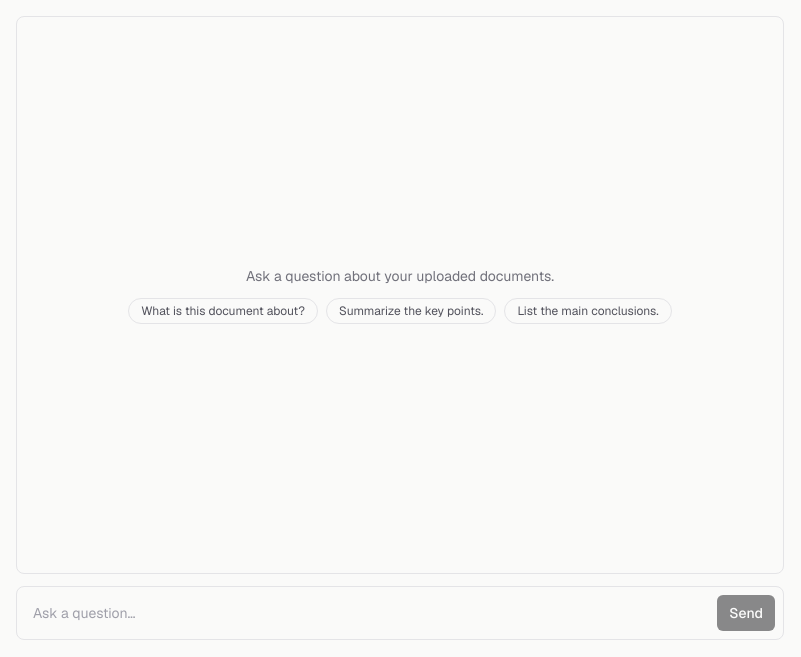
it: ChatClient › streams tokens into the assistant message and finishes on done
The width and height of the screenshot is (801, 657).
Type "qué es sourcely" into the text box with placeholder "Ask a question…" at (367, 613), box x1=25 y1=595 x2=709 y2=631
Then press Enter
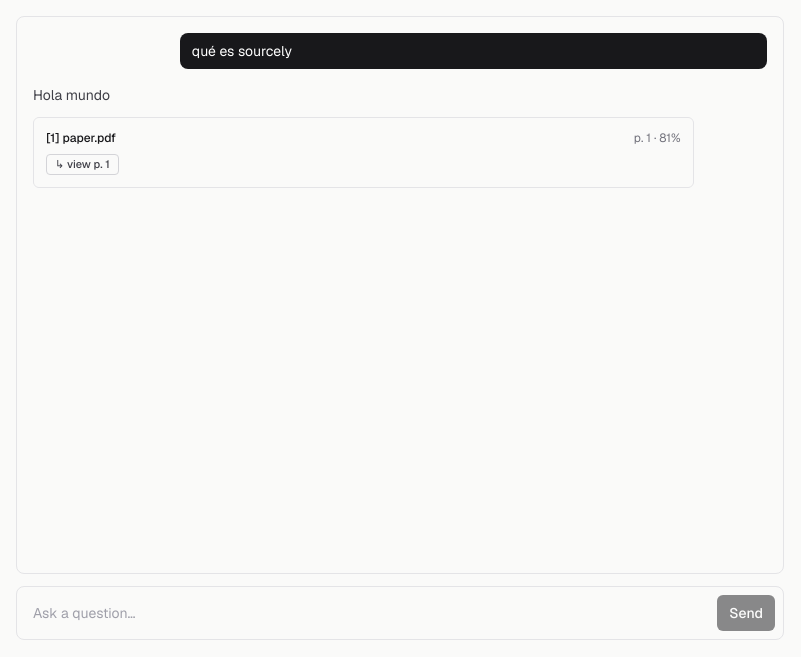
Check: the text "qué es sourcely" is shown, box x1=192 y1=42 x2=292 y2=60
Check: the text "Hola mundo" is shown, box x1=33 y1=86 x2=110 y2=104
Check: the button "↳ view p. 1" is shown, box x1=46 y1=154 x2=119 y2=175
